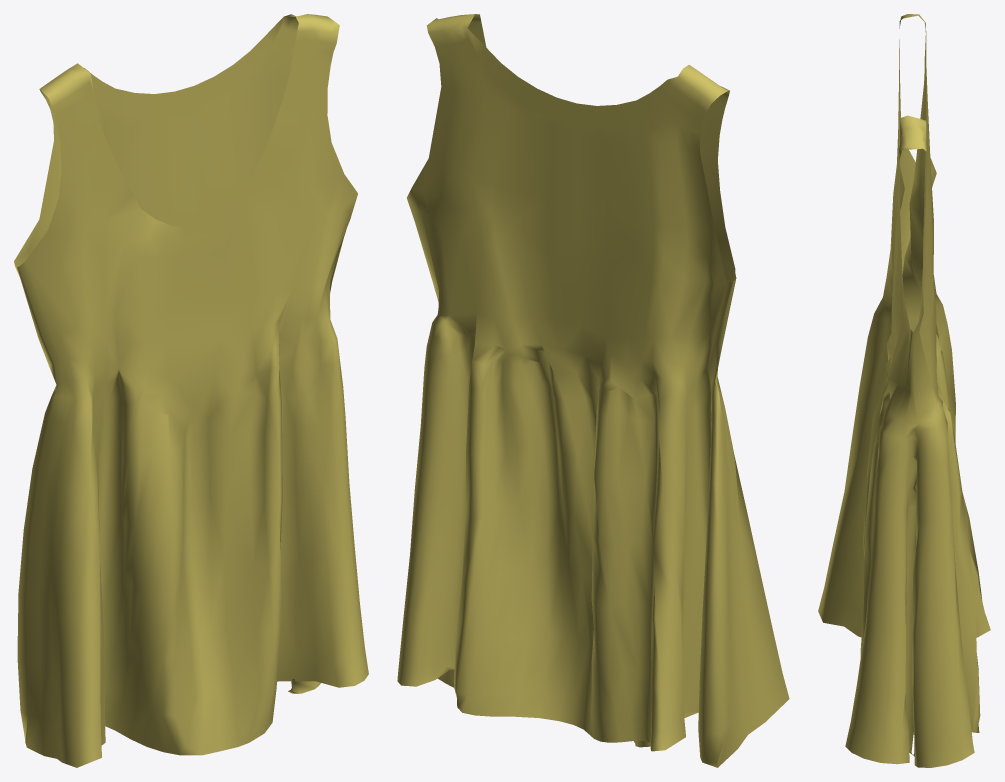
Rendered from Dress14.fbx.
3 renders of one model, left to right at view 1: azimuth 30°, elevation 25°; view 2: azimuth 150°, elevation 25°; view 3: azimuth 270°, elevation 25°, orthographic. The views are drawn at different scales.
Visible parts, largest first — view 1: Dress14; view 2: Dress14; view 3: Dress14.
Boxes of the visible parts, x1,y1,x2,y2 form: Dress14: [14, 14, 368, 767]; Dress14: [397, 14, 789, 767]; Dress14: [818, 14, 990, 767].
Bounding box in the file's own units: 41.89 × 83.99 × 19.78.
